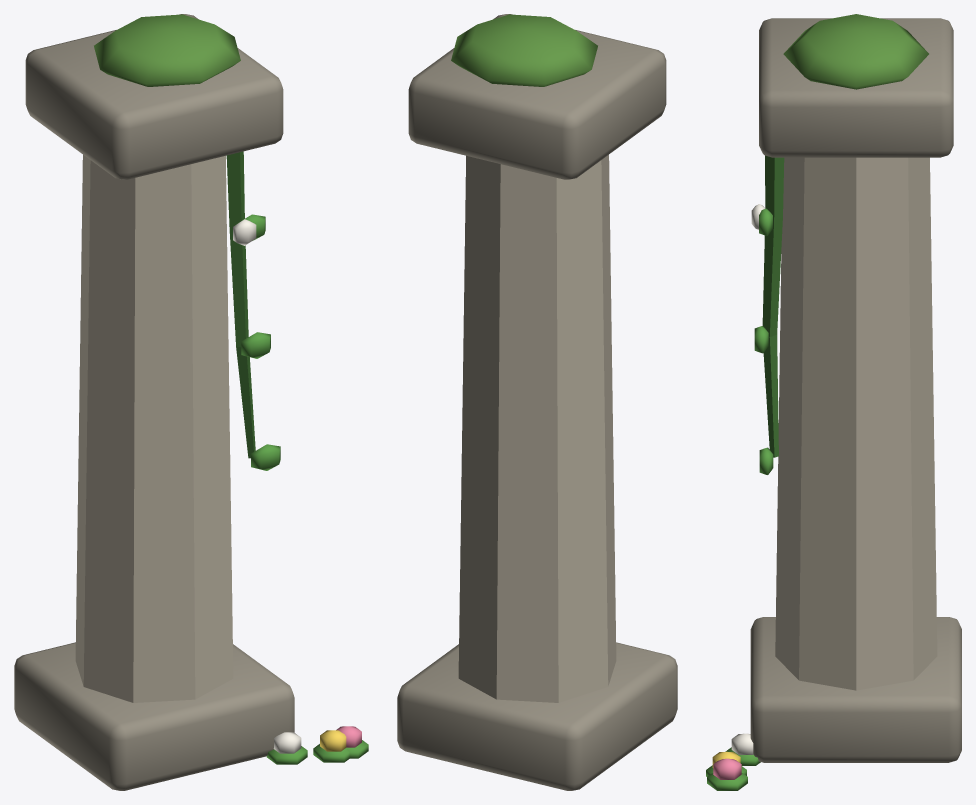
The model's file is RuinPillar.fbx.
The picture shows the model from 3 angles, left to right: view 1: azimuth 30°, elevation 25°; view 2: azimuth 150°, elevation 25°; view 3: azimuth 270°, elevation 25°; orthographic projection.
Visible parts, largest first — view 1: Frame; view 2: Frame; view 3: Frame.
Boxes of the visible parts, bbox=[...] form: Frame: bbox=[14, 14, 368, 790]; Frame: bbox=[397, 14, 677, 790]; Frame: bbox=[706, 14, 961, 790].
Size of the model in its own units: 1.83 by 5.24 by 1.73.
Materials: 1 (1 with a texture image).
